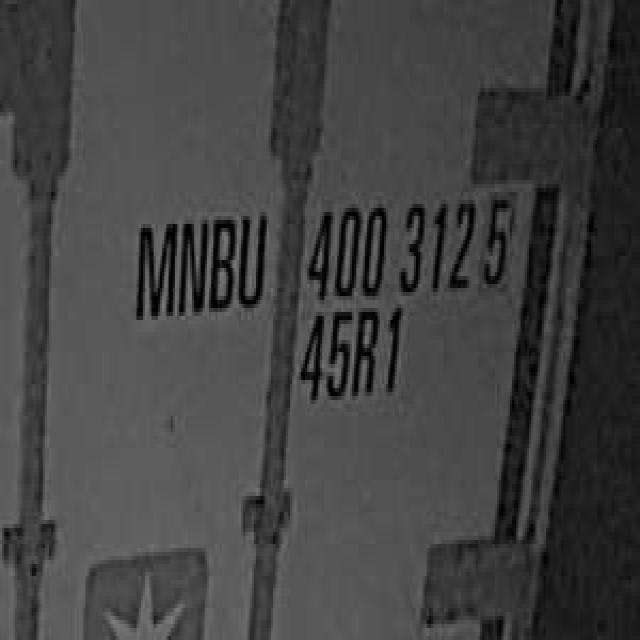dv: (478, 176, 518, 292)
owner: (126, 192, 271, 332)
serial: (301, 184, 476, 304)
size: (294, 300, 408, 416)
